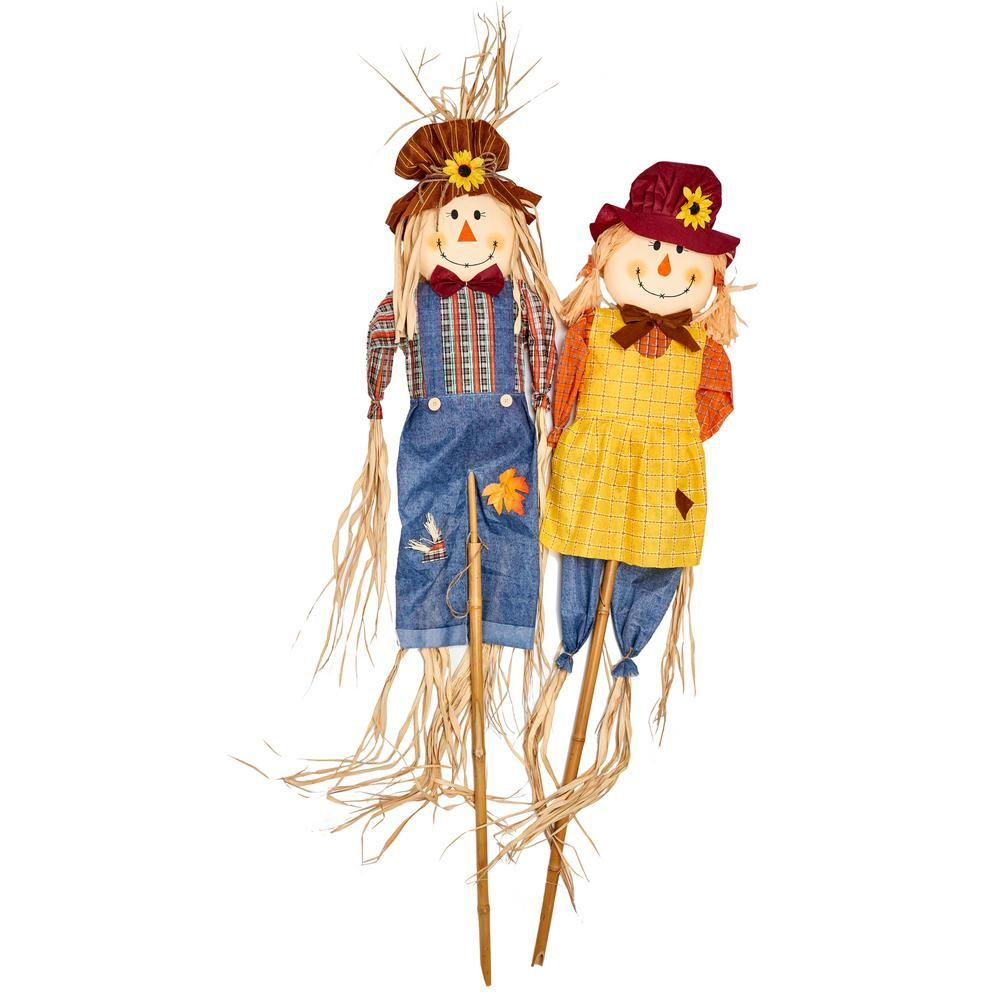person-like: (302, 2, 558, 876), (516, 153, 762, 913)
